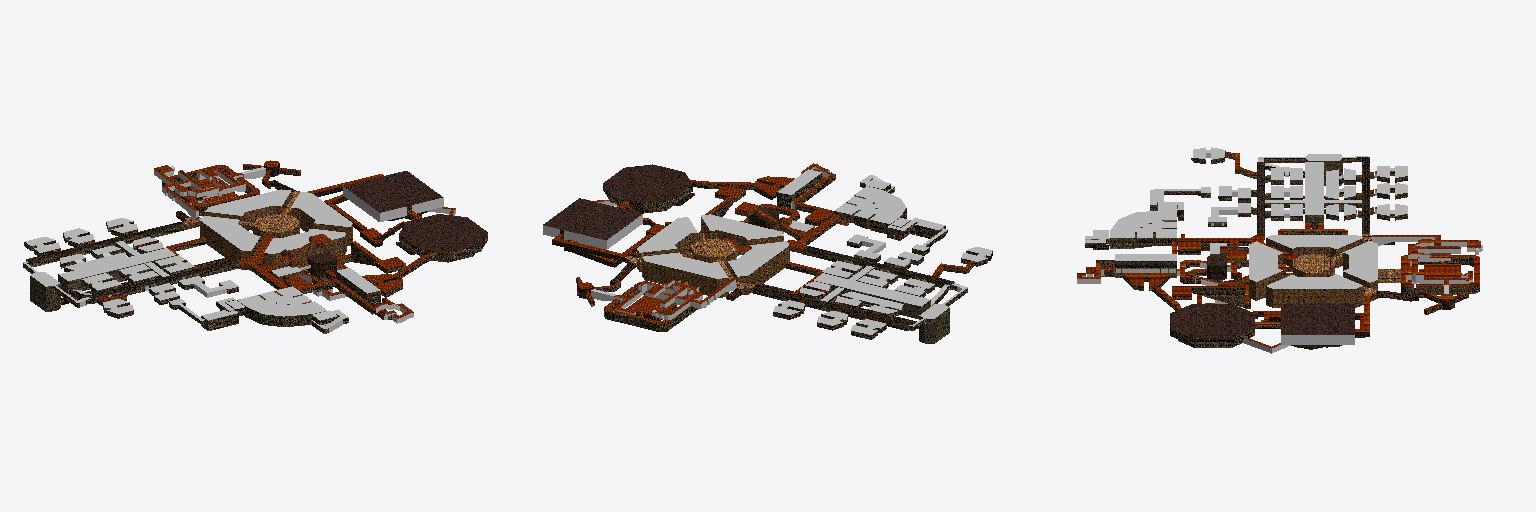
The picture shows the model from 3 angles: view 1: azimuth 30°, elevation 25°; view 2: azimuth 150°, elevation 25°; view 3: azimuth 270°, elevation 25°; orthographic projection.
Visible parts, largest first — view 1: Room86, Room91, Room22, Room15, Room13, Room16, Room60, Room12, Room46, Room43, Room131, Room18 (+3 smaller); view 2: Room86, Room91, Room13, Room22, Room15, Room12, Room60, Room16, Room46, Room43, Room131, Room18 (+4 smaller); view 3: Room91, Room86, Room16, Room22, Room15, Room12, Room13, Room1, Room60, Room18, Room156, Room46 (+3 smaller).
Part boxes in pixels (left/top/right/bottom): Room86: left=343, top=171, right=443, bottom=221; Room91: left=399, top=214, right=487, bottom=262; Room22: left=237, top=286, right=326, bottom=326; Room15: left=200, top=216, right=260, bottom=270; Room13: left=205, top=189, right=291, bottom=230; Room16: left=291, top=192, right=352, bottom=245; Room60: left=58, top=248, right=176, bottom=293; Room12: left=264, top=229, right=346, bottom=266; Room46: left=26, top=222, right=184, bottom=266; Room43: left=78, top=260, right=238, bottom=306; Room131: left=30, top=272, right=60, bottom=311; Room18: left=253, top=214, right=299, bottom=239; Room86: left=543, top=198, right=642, bottom=249; Room91: left=603, top=164, right=692, bottom=213; Room13: left=642, top=252, right=728, bottom=297; Room22: left=834, top=186, right=906, bottom=233; Room15: left=727, top=241, right=789, bottom=294; Room12: left=701, top=214, right=783, bottom=246; Room60: left=813, top=273, right=930, bottom=318; Room16: left=637, top=217, right=697, bottom=271; Room46: left=753, top=285, right=910, bottom=330; Room43: left=804, top=246, right=964, bottom=291; Room131: left=919, top=304, right=949, bottom=343; Room18: left=690, top=238, right=736, bottom=264; Room91: left=1170, top=304, right=1254, bottom=347; Room86: left=1281, top=304, right=1354, bottom=349; Room16: left=1266, top=274, right=1363, bottom=307; Room22: left=1110, top=210, right=1176, bottom=248; Room15: left=1266, top=235, right=1363, bottom=267; Room12: left=1249, top=241, right=1282, bottom=300; Room13: left=1343, top=241, right=1377, bottom=301; Room1: left=1115, top=254, right=1179, bottom=277; Room60: left=1303, top=162, right=1325, bottom=227; Room18: left=1293, top=254, right=1334, bottom=276; Room156: left=1192, top=286, right=1244, bottom=307; Room46: left=1358, top=157, right=1373, bottom=233.
Size of the model in its own units: 22016 by 2416 by 19792.
84 materials, 62 textured.